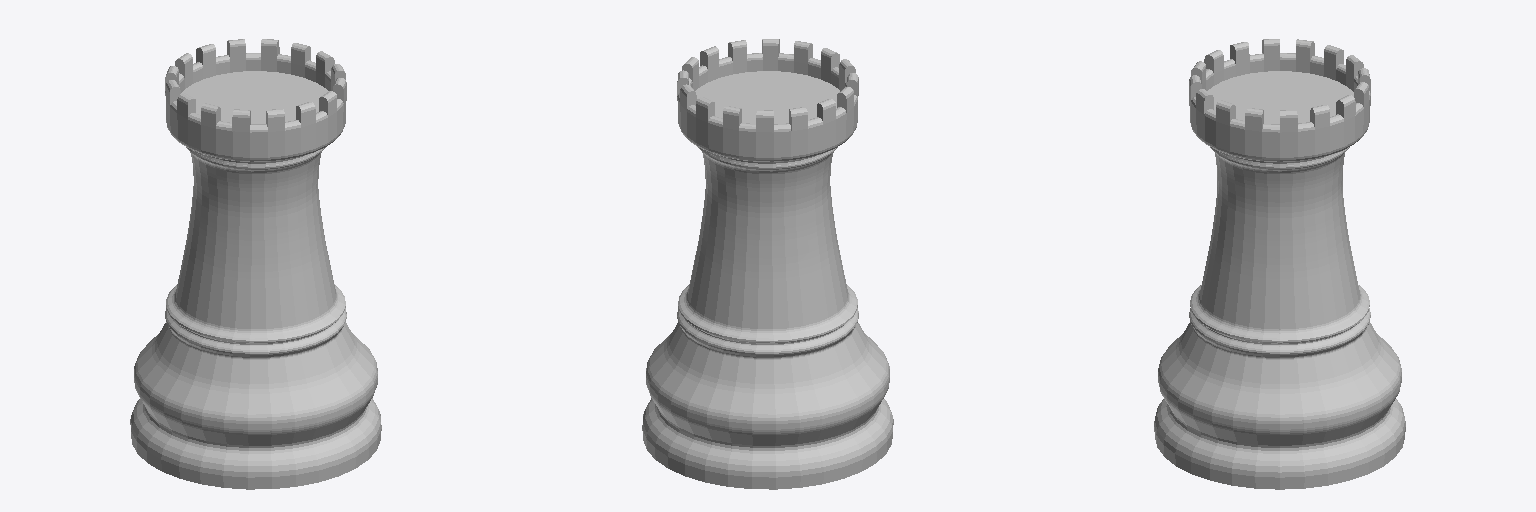
File: white_rook.obj
3 views of the same model, side by side, from view 1: azimuth 30°, elevation 25°; view 2: azimuth 150°, elevation 25°; view 3: azimuth 270°, elevation 25° (orthographic).
Parts seen in each view (by area): view 1: Light_Rock_2; view 2: Light_Rock_2; view 3: Light_Rock_2.
Boxes of the visible parts, <box> form: Light_Rock_2: <box>130,39,381,489</box>; Light_Rock_2: <box>642,39,893,489</box>; Light_Rock_2: <box>1154,39,1405,489</box>.
Size of the model in its own units: 1.28 by 2.02 by 1.28.